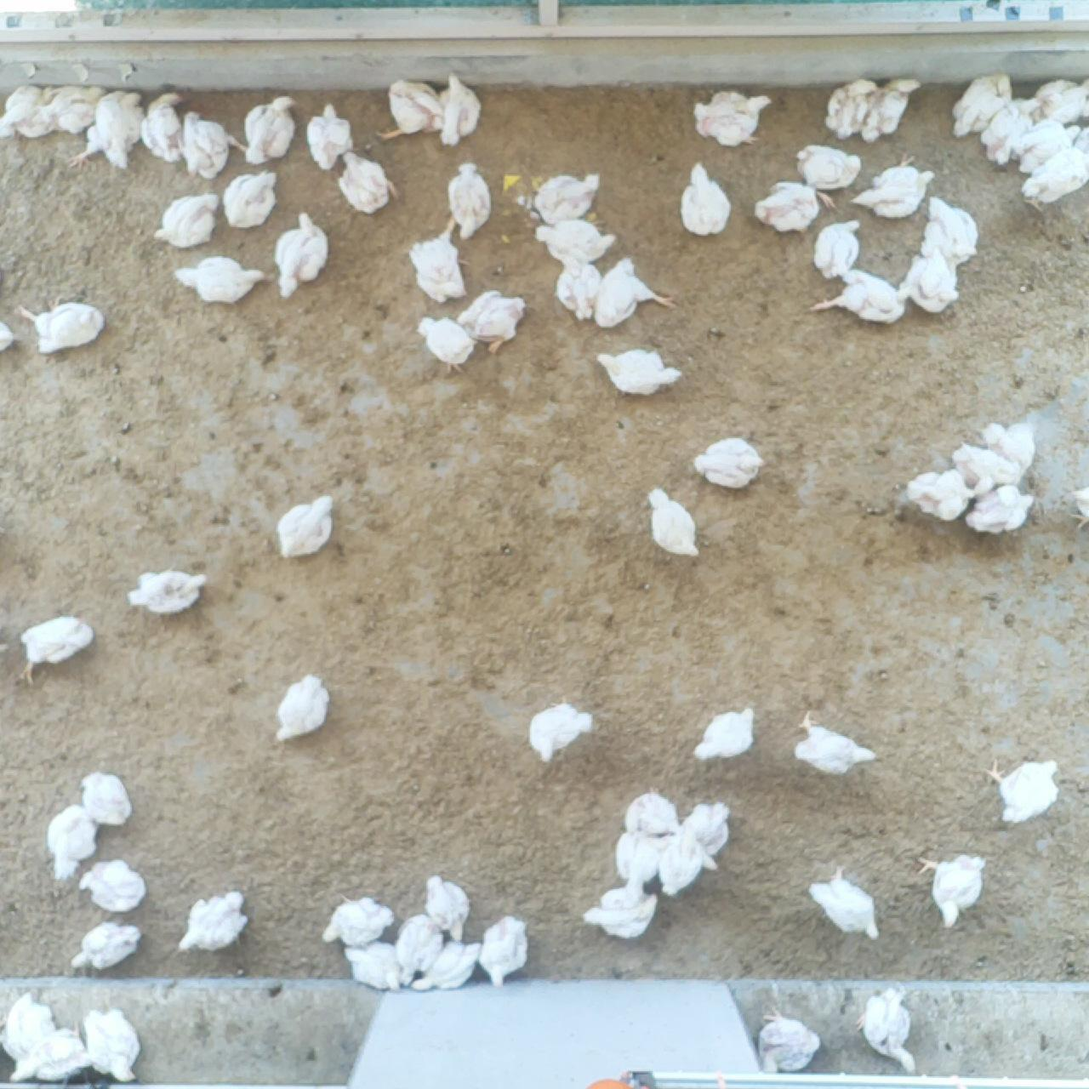chicken: (813, 268, 907, 327), (793, 715, 878, 780), (73, 93, 145, 165), (811, 870, 881, 944), (920, 856, 989, 930), (987, 759, 1061, 824), (596, 260, 667, 327), (22, 615, 93, 681), (852, 159, 933, 216), (861, 990, 914, 1077), (1023, 145, 1089, 212), (276, 214, 328, 297), (761, 1006, 823, 1075), (696, 88, 771, 145), (79, 1012, 140, 1082), (949, 71, 1012, 137), (379, 78, 441, 145), (178, 893, 249, 950), (275, 496, 336, 562), (456, 292, 523, 352), (527, 701, 594, 761), (693, 436, 764, 492), (243, 94, 297, 166), (20, 304, 101, 352), (754, 180, 830, 231), (923, 197, 982, 261), (181, 115, 239, 180), (177, 259, 263, 302), (907, 253, 965, 316), (273, 676, 328, 742), (12, 1029, 83, 1080), (337, 155, 395, 216), (980, 425, 1036, 488), (393, 915, 442, 987), (598, 353, 680, 396), (48, 807, 95, 882), (649, 487, 700, 556), (410, 237, 464, 302), (436, 75, 484, 148), (479, 916, 527, 989), (952, 444, 1022, 494), (989, 97, 1041, 164), (126, 572, 206, 615), (587, 892, 660, 939), (659, 841, 719, 898), (682, 165, 729, 237), (1017, 123, 1084, 173), (324, 898, 391, 948), (413, 942, 475, 996), (970, 486, 1037, 535), (448, 161, 489, 241), (538, 225, 616, 267), (677, 797, 729, 860), (5, 991, 51, 1062), (908, 471, 972, 522), (824, 77, 875, 140), (417, 315, 471, 374), (83, 860, 147, 909), (866, 77, 920, 135), (308, 100, 352, 171), (155, 197, 215, 249), (73, 922, 138, 970), (815, 215, 867, 275), (696, 709, 757, 760), (1026, 80, 1089, 128), (140, 91, 181, 164), (425, 875, 470, 941), (225, 169, 276, 227), (3, 81, 53, 140), (539, 174, 599, 222), (77, 773, 131, 825), (45, 85, 101, 135), (558, 260, 602, 322), (796, 146, 859, 188), (611, 838, 659, 893), (346, 942, 398, 991), (626, 790, 676, 837)
